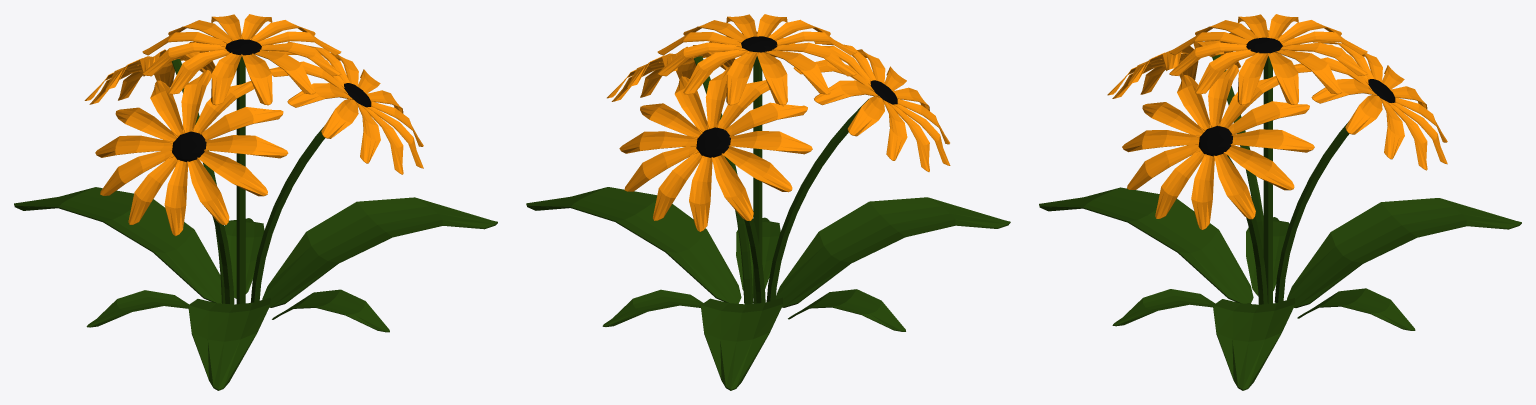
File: Flower_5.FBX
3 views of the same model, side by side, from view 1: azimuth 30°, elevation 25°; view 2: azimuth 150°, elevation 25°; view 3: azimuth 270°, elevation 25° (orthographic).
Visible parts, largest first — view 1: Flower5; view 2: Flower5; view 3: Flower5.
Boxes of the visible parts, x1,y1,x2,y2 form: Flower5: (14,14,497,390); Flower5: (526,14,1010,390); Flower5: (1039,14,1521,390).
Bounding box in the file's own units: 75.92 × 49.18 × 79.49.
